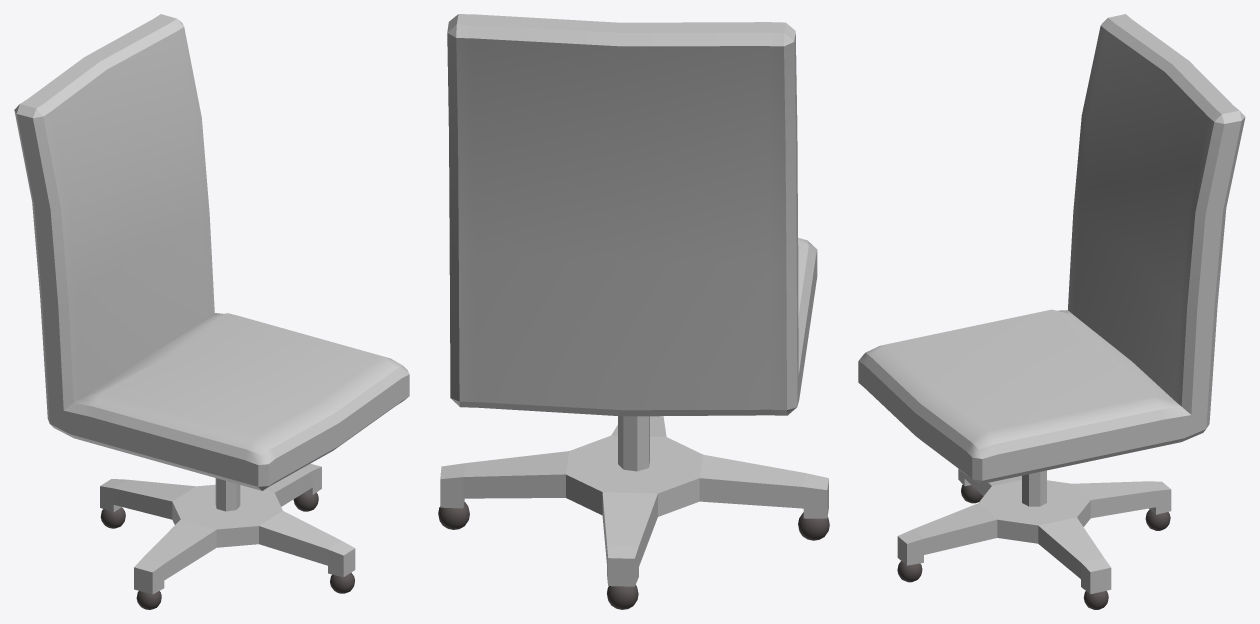
Rendered from StudyChair.fbx.
3 views of the same model, side by side, from view 1: azimuth 30°, elevation 25°; view 2: azimuth 150°, elevation 25°; view 3: azimuth 270°, elevation 25° (orthographic). The views are drawn at different scales.
Parts seen in each view (by area): view 1: polySurface304; view 2: polySurface304; view 3: polySurface304.
Boxes of the visible parts, x1,y1,x2,y2 form: polySurface304: (14,14,409,609); polySurface304: (438,14,829,609); polySurface304: (858,14,1245,609).
Bounding box in the file's own units: 89.31 × 123 × 93.11.
